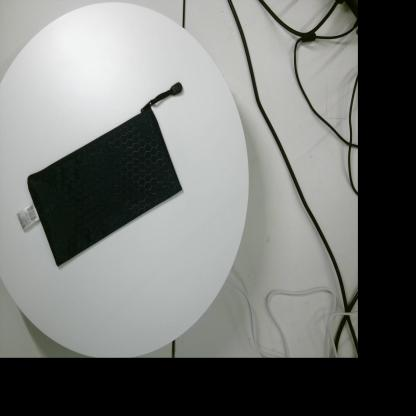Stationery: (16, 82, 183, 267)
